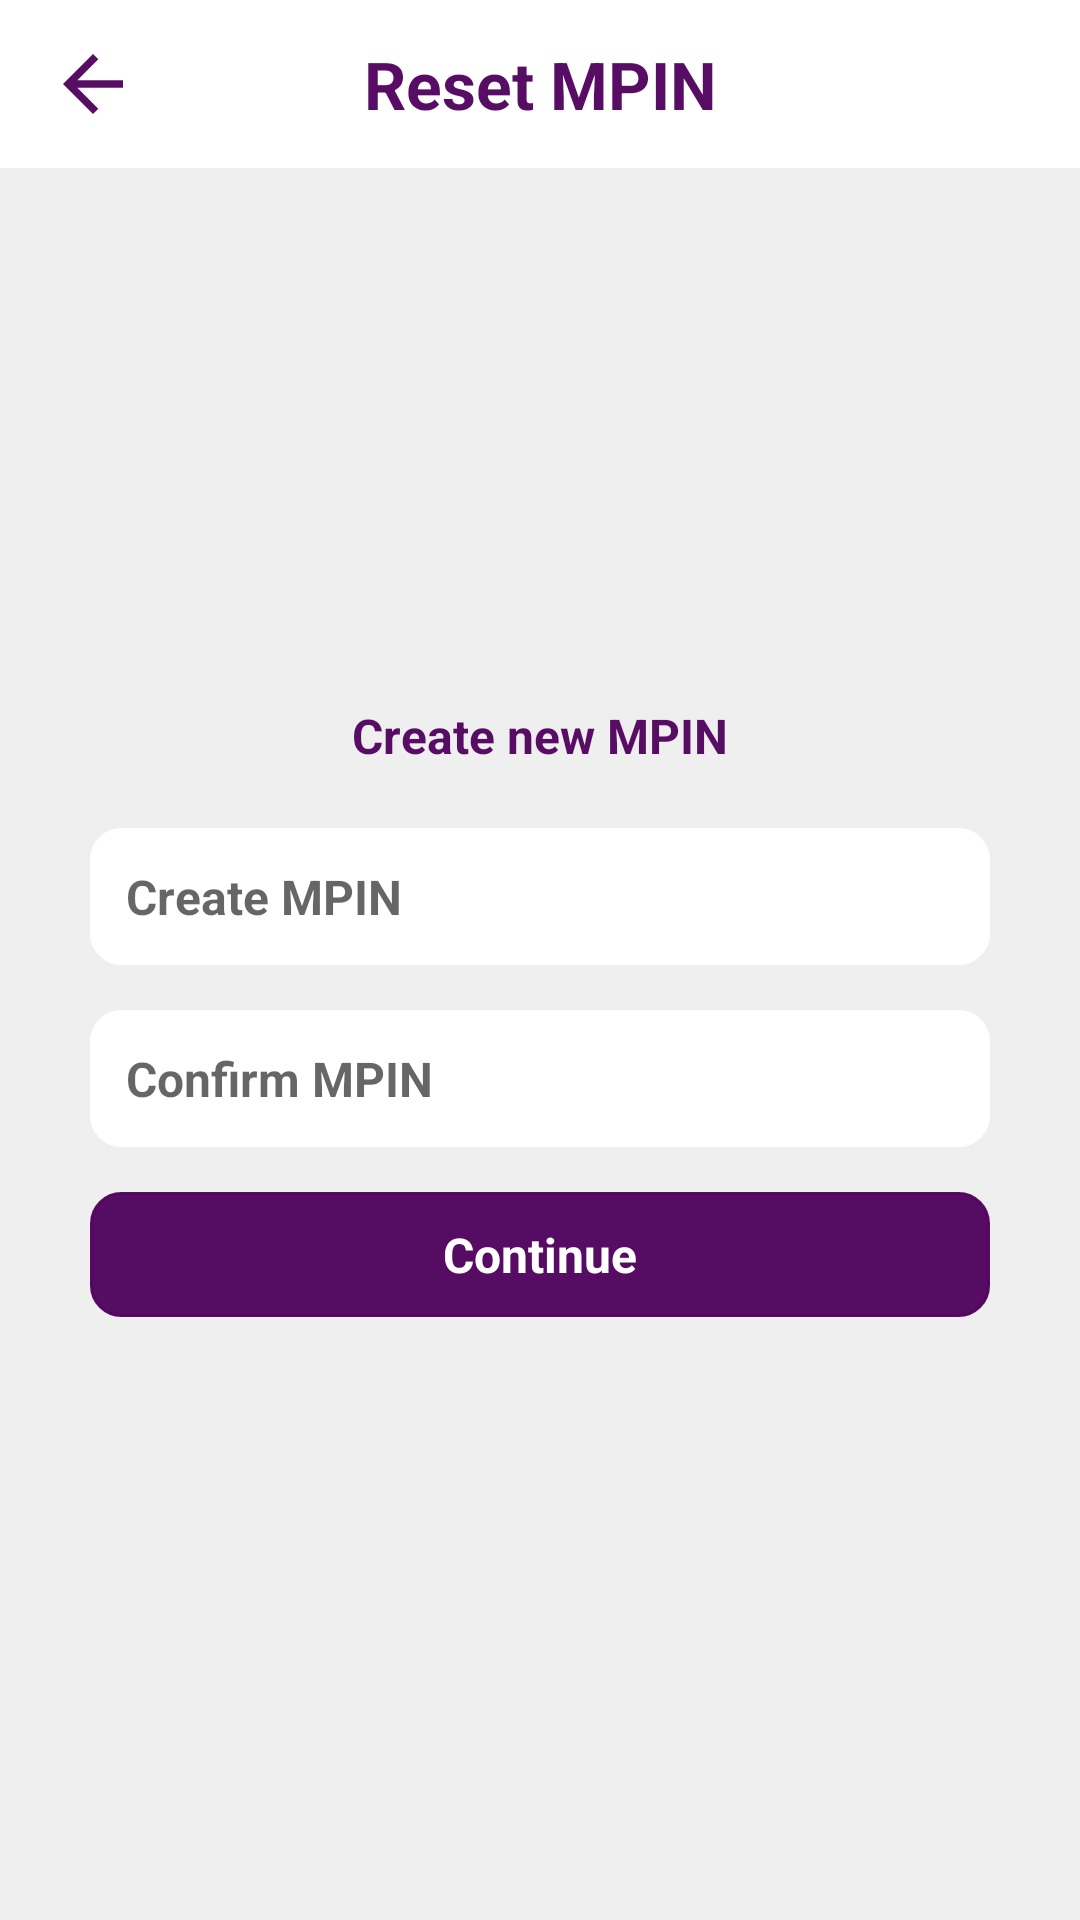

Where to tap for icons on this 1080*1920 app screen, as point (x, y):
back: point (93, 84)
